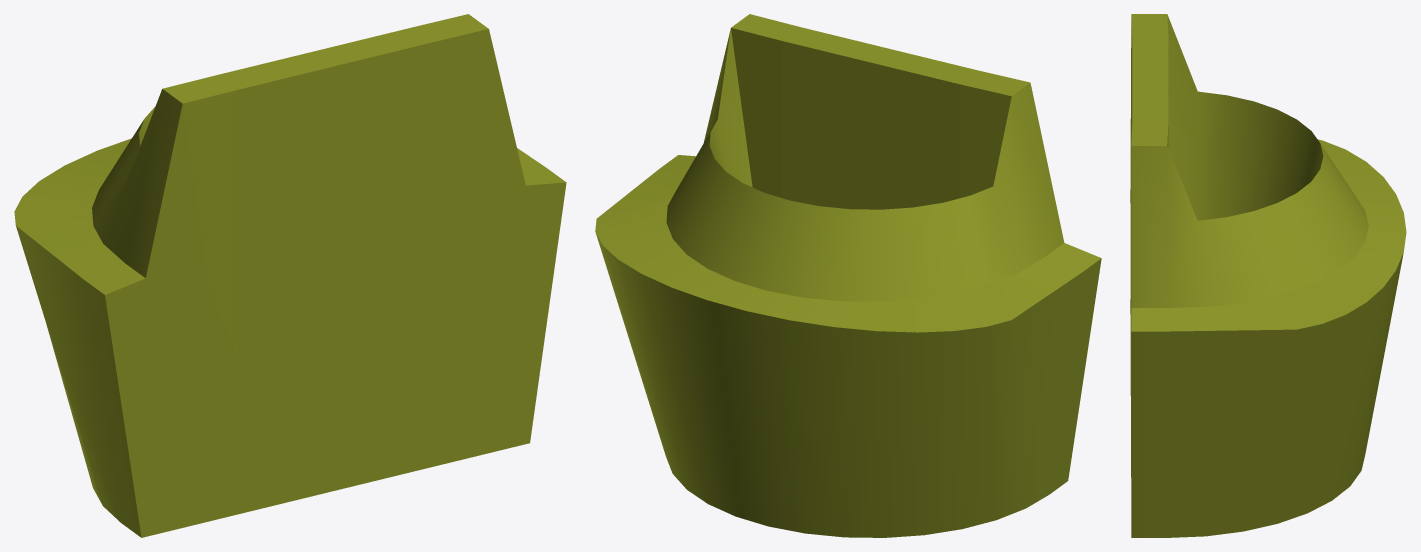
Rendered from Recipient Plant.7.fbx.
3 views of the same model, side by side, from view 1: azimuth 30°, elevation 25°; view 2: azimuth 150°, elevation 25°; view 3: azimuth 270°, elevation 25° (orthographic). The views are drawn at different scales.
Visible parts, largest first — view 1: VPlanta; view 2: VPlanta; view 3: VPlanta.
Boxes of the visible parts, x1,y1,x2,y2 form: VPlanta: [14, 14, 566, 537]; VPlanta: [595, 14, 1101, 537]; VPlanta: [1130, 14, 1406, 537].
Size of the model in its own units: 96.92 by 85.16 by 56.9.
